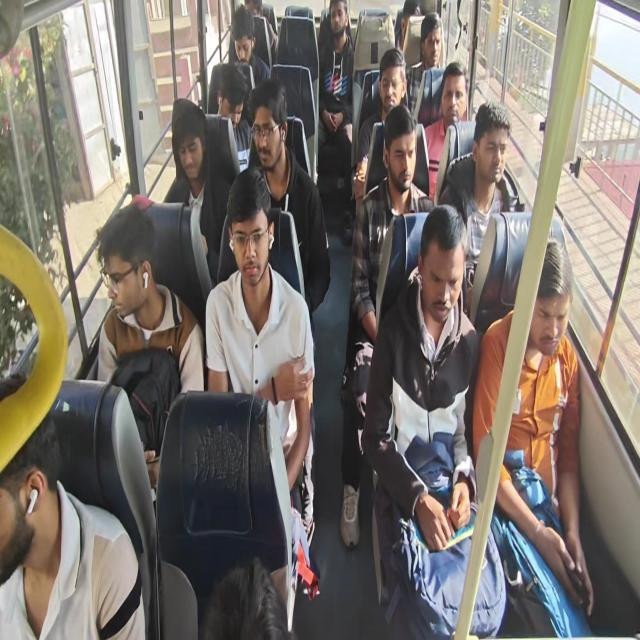person: (0, 383, 63, 579), (522, 248, 576, 362), (99, 214, 147, 321), (226, 188, 278, 280), (419, 218, 461, 328), (474, 105, 514, 183), (385, 114, 418, 191), (174, 116, 206, 182), (438, 61, 468, 125), (381, 54, 412, 115), (218, 70, 247, 135), (255, 102, 283, 166), (422, 14, 446, 68), (327, 0, 352, 45), (228, 26, 252, 66), (399, 0, 420, 40), (241, 0, 266, 22)
